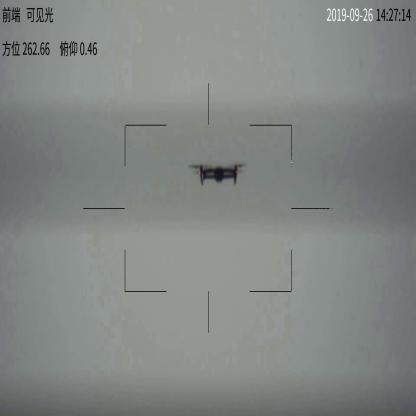uav: (191, 162, 245, 185)
